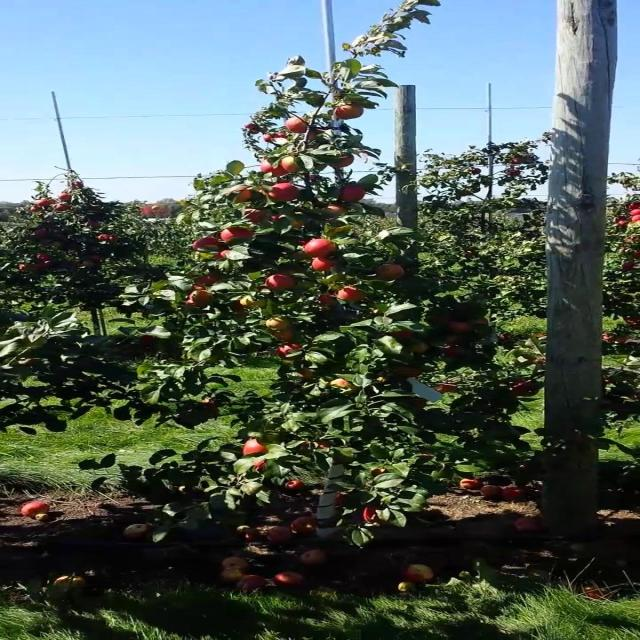apple: (302, 238, 338, 258), (269, 182, 300, 201), (376, 262, 404, 281), (220, 226, 253, 242), (338, 184, 367, 202), (264, 274, 296, 290), (333, 104, 364, 120), (187, 289, 213, 308), (224, 185, 253, 202), (260, 159, 289, 176), (362, 506, 389, 524), (191, 236, 222, 251), (329, 379, 360, 394), (509, 380, 538, 396), (276, 342, 302, 359), (336, 286, 364, 301), (284, 116, 307, 133), (193, 274, 222, 287), (242, 439, 267, 454), (393, 365, 422, 377), (193, 274, 222, 286), (280, 155, 300, 172), (447, 321, 473, 334), (238, 295, 264, 308), (329, 154, 353, 168), (311, 258, 336, 271), (242, 209, 267, 222), (264, 318, 291, 330), (427, 312, 451, 325), (271, 328, 293, 342), (200, 398, 218, 415), (442, 346, 467, 358), (324, 204, 347, 217), (324, 225, 351, 236), (407, 341, 429, 354), (433, 382, 458, 393), (318, 292, 336, 305), (333, 492, 349, 506), (304, 128, 324, 139), (389, 330, 413, 339), (231, 299, 247, 312), (624, 316, 640, 329), (290, 216, 307, 228), (444, 335, 464, 345), (253, 458, 267, 471), (213, 249, 231, 259), (298, 369, 316, 379), (418, 449, 436, 459), (304, 129, 320, 140), (140, 335, 156, 345), (371, 468, 389, 476), (262, 132, 276, 142), (413, 399, 427, 409), (471, 318, 489, 325), (316, 441, 331, 449), (273, 131, 289, 138), (269, 215, 284, 222)
